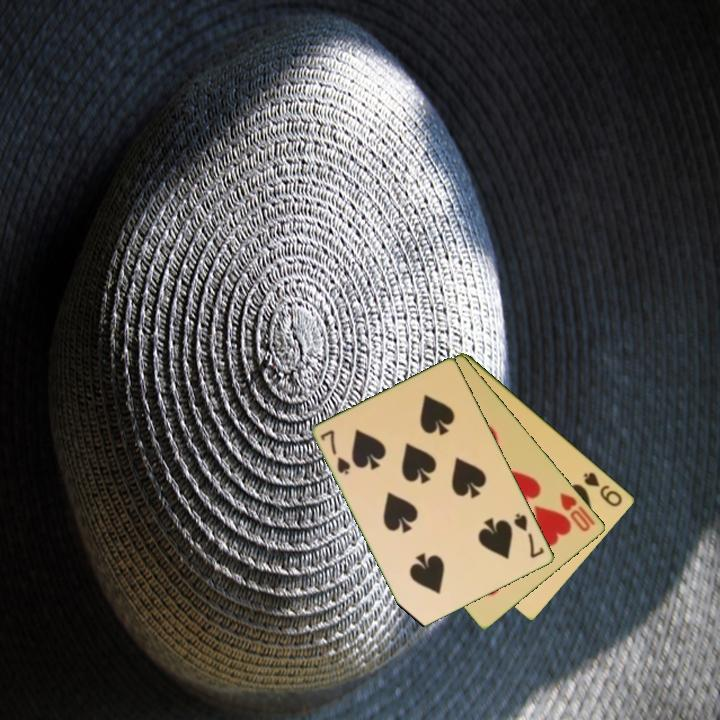10h: (557, 489, 599, 535)
7s: (317, 426, 354, 478), (510, 510, 547, 561)
9s: (580, 469, 626, 510)
